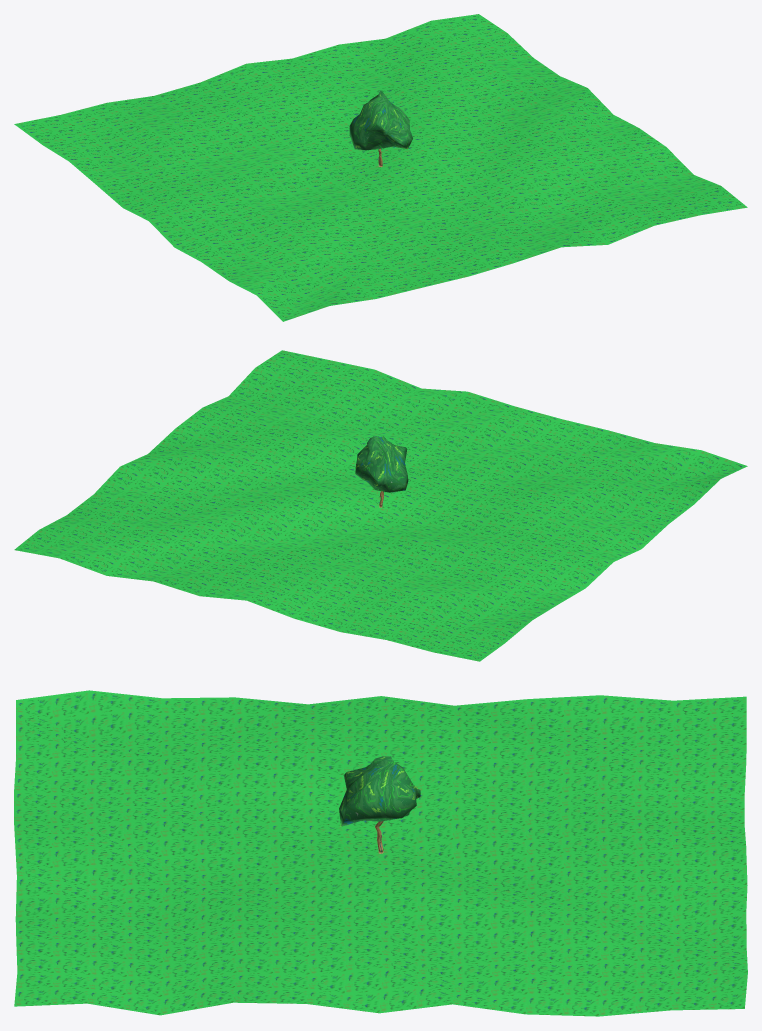
3 views of the same model, one above another, from view 1: azimuth 30°, elevation 25°; view 2: azimuth 150°, elevation 25°; view 3: azimuth 270°, elevation 25° (orthographic). The views are drawn at different scales.
Visible parts, largest first — view 1: Sol, feuillageChene; view 2: Sol, feuillageChene; view 3: Sol, feuillageChene.
Part boxes in pixels (box(x1,y1,x2,y2)): Sol: box(14, 14, 747, 321); feuillageChene: box(349, 91, 412, 150); Sol: box(14, 350, 747, 661); feuillageChene: box(355, 436, 408, 492); Sol: box(14, 690, 747, 1016); feuillageChene: box(339, 756, 420, 826).
Size of the model in its own units: 1607 by 260 by 1607.
Materials: 3 (3 with a texture image).
